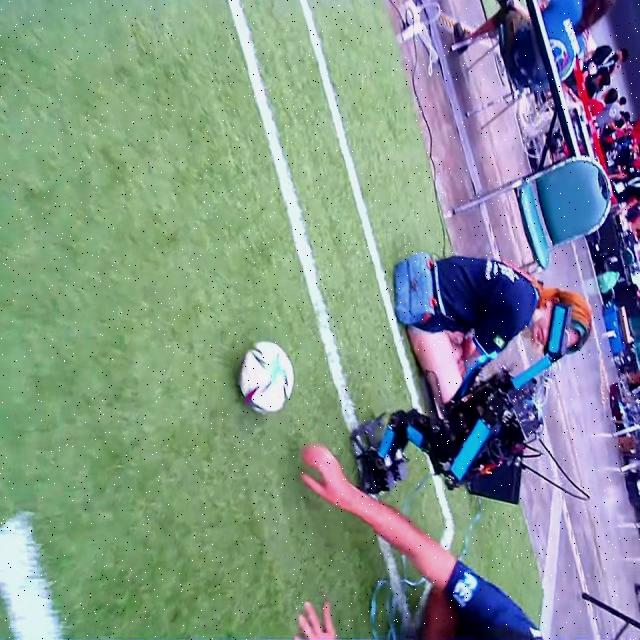ball: (238, 343, 291, 411)
